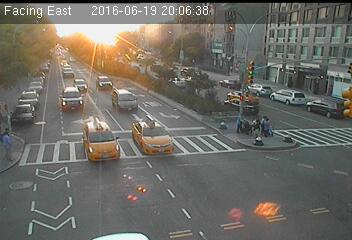neg: (130, 178, 143, 194), (9, 79, 21, 95), (196, 74, 206, 87), (127, 193, 136, 205)
pos: (249, 117, 263, 135), (262, 117, 275, 135), (261, 113, 269, 123)
